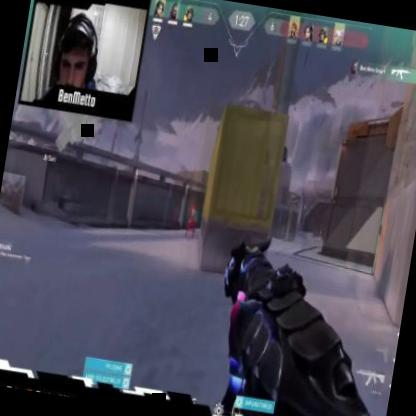enemy: (184, 202, 199, 238)
enemy_head: (191, 202, 196, 210)
